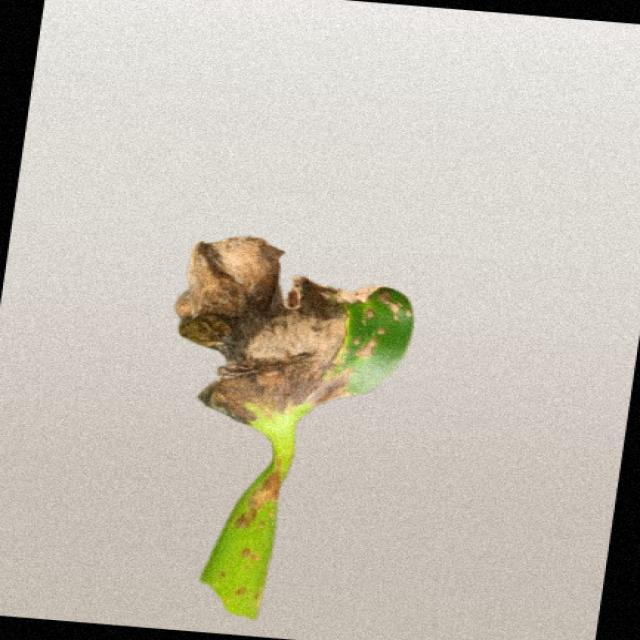daun berpenyakit karat: (175, 236, 413, 618)
